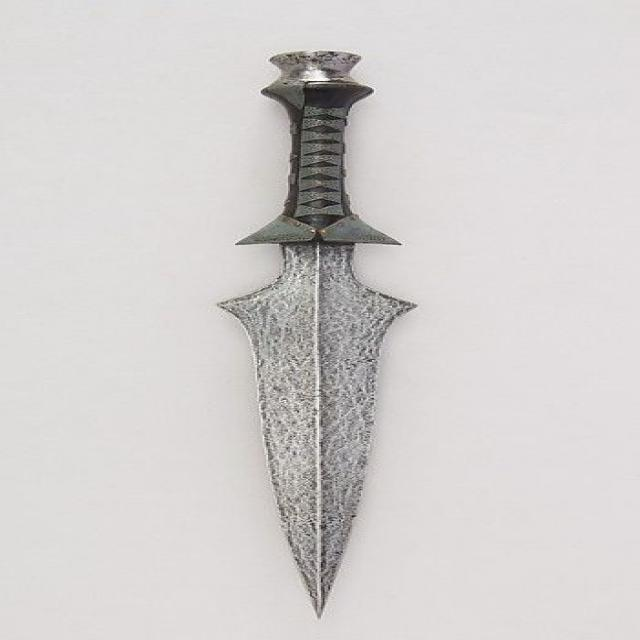short sword: (190, 32, 448, 624)
